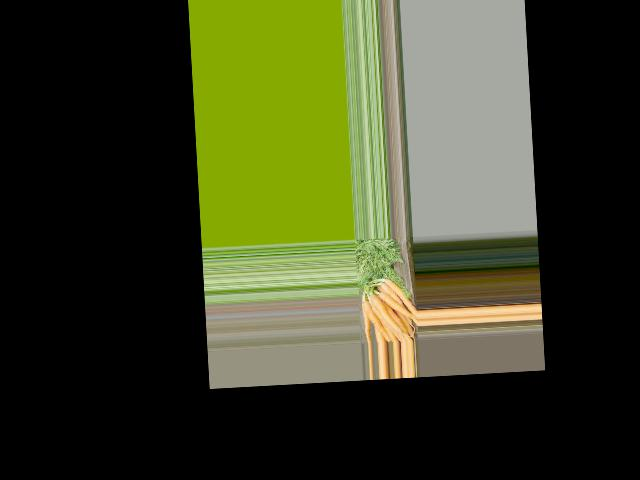carrot: (361, 298, 392, 344)
